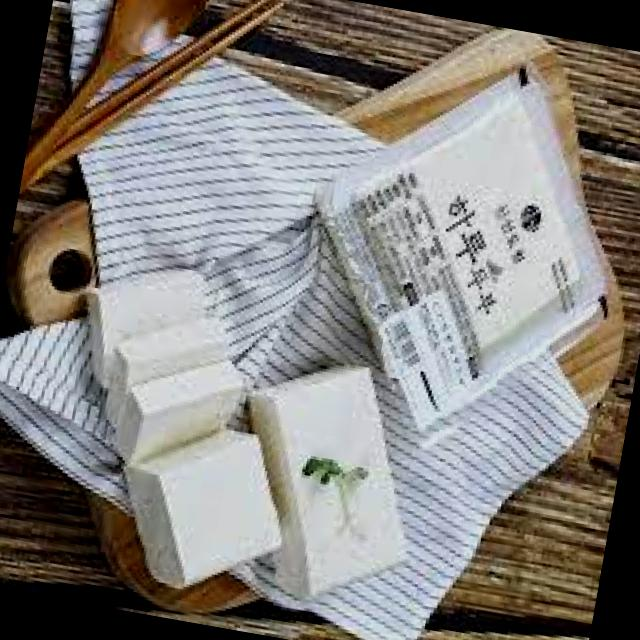tof: (292, 62, 640, 421), (68, 325, 440, 630)
